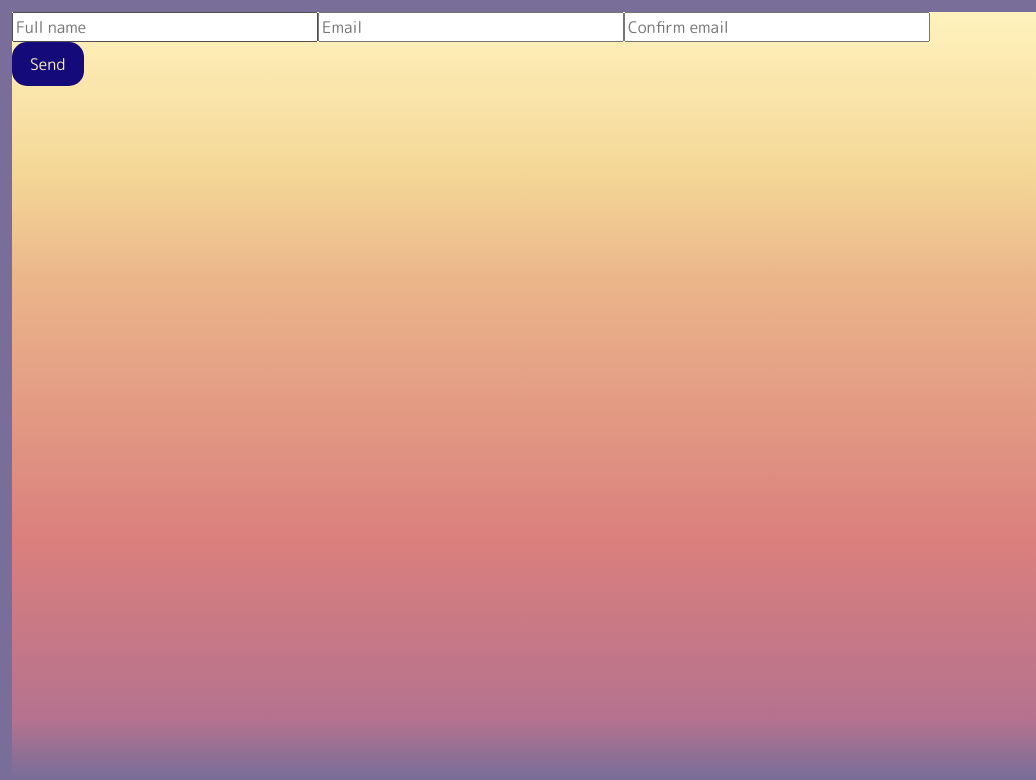
Test: InviteForm › email confirm field › on submit should validate email confirm matches email
Type "hello@emails.com" into the field labelled "Email".
click(471, 27); type("hello@emails.com")  # box [318,12,624,42]
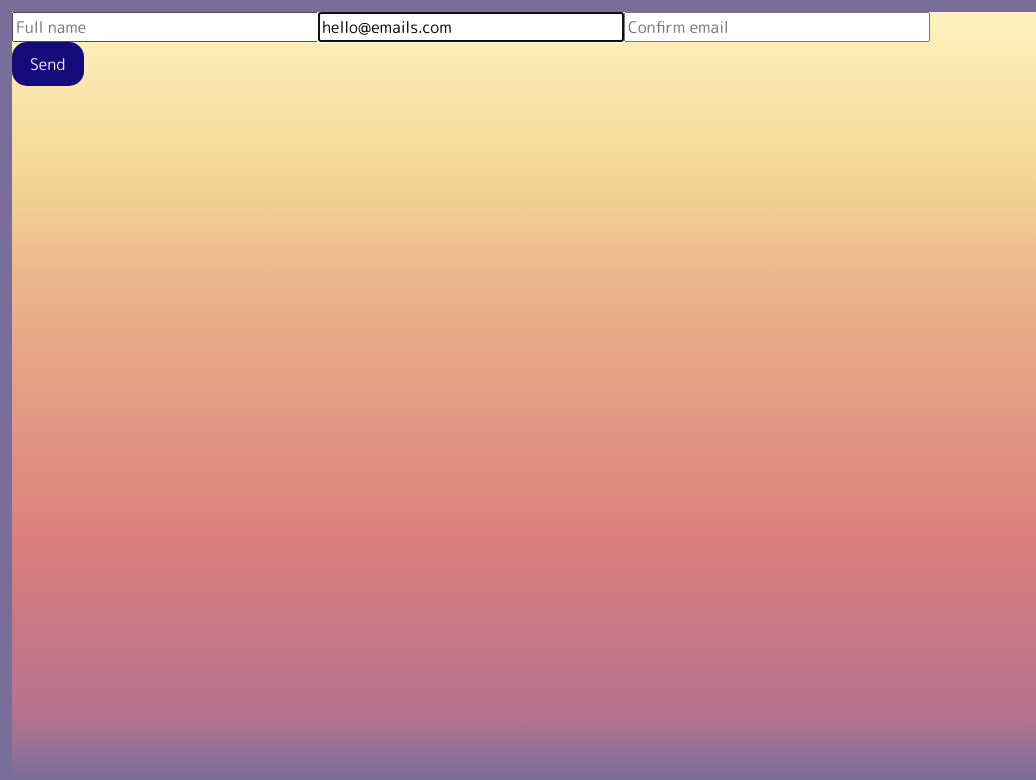
Click the button "Send".
click(48, 64)  # box [12,42,84,86]
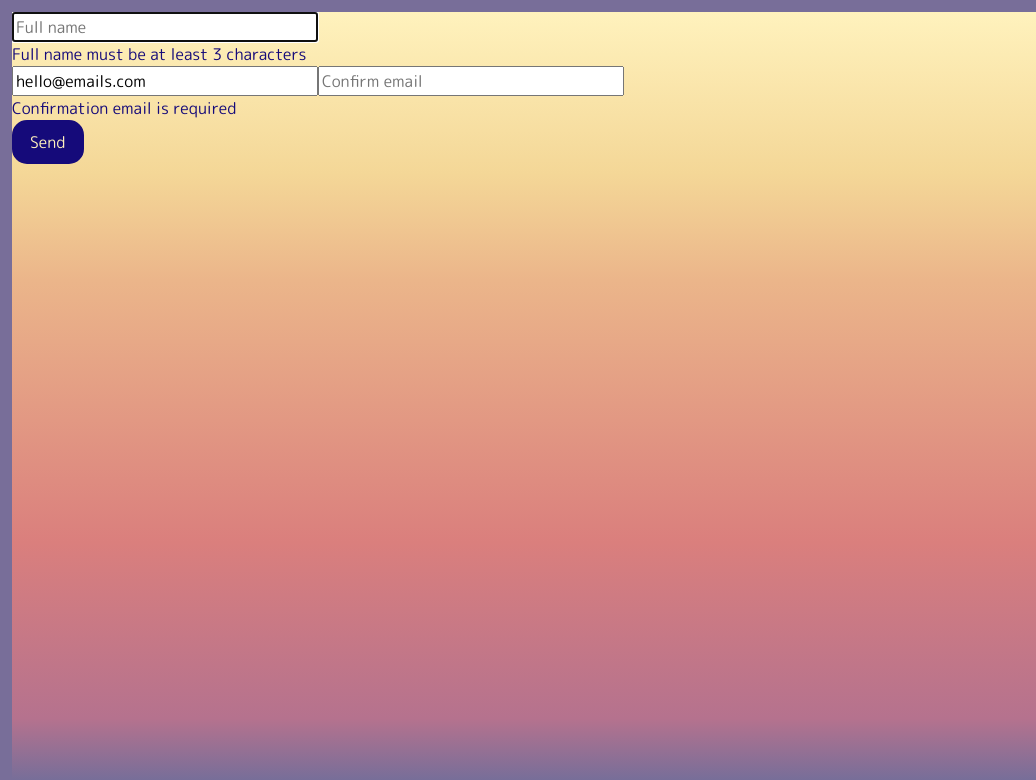
Expected: the message named "Email confirm error" reads "Confirmation email is required", [12,97,236,119]
Type "hello@email.com" into the field labelled "Confirm email".
click(471, 81); type("hello@email.com")  # box [318,66,624,96]
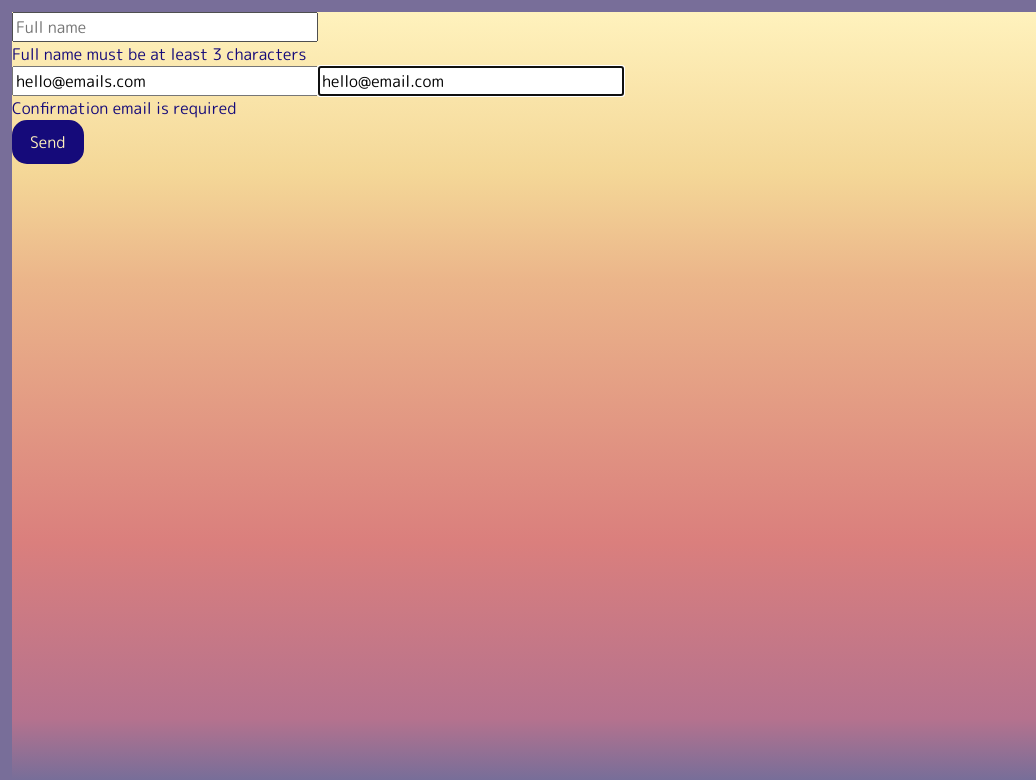
Click the button "Send".
click(48, 142)  # box [12,120,84,164]
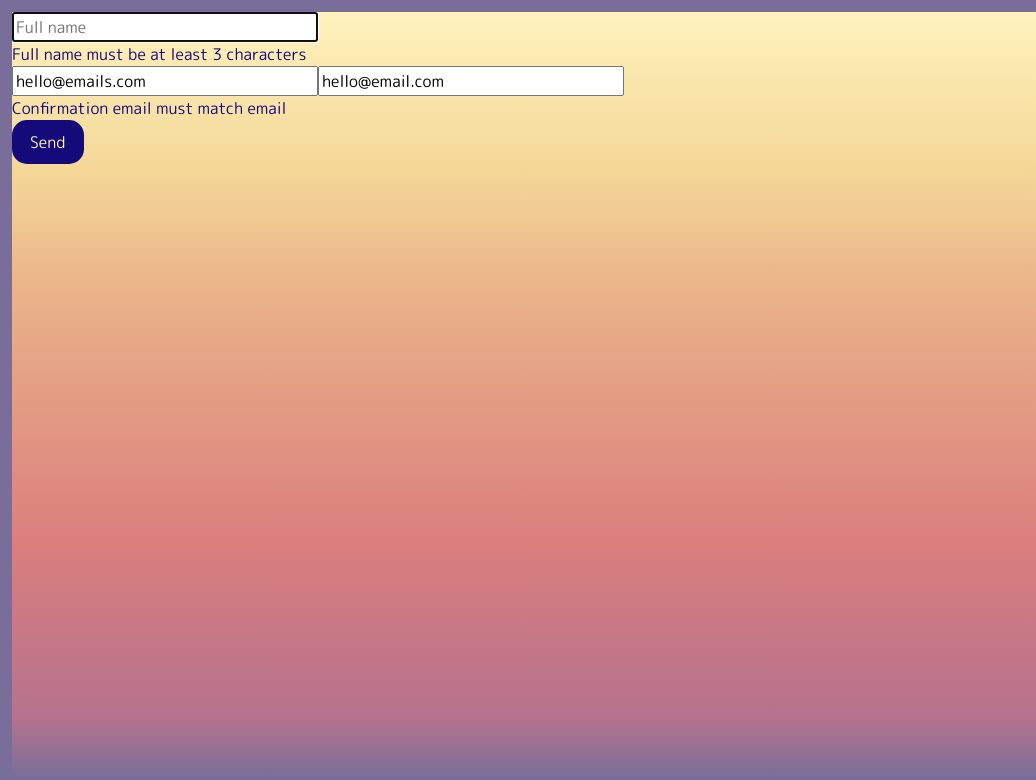
Expected: the message named "Email confirm error" reads "Confirmation email must match email", [12,97,286,119]
